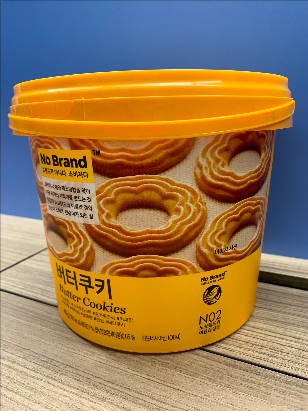Cookies_400-499g: (44, 142, 244, 342)
